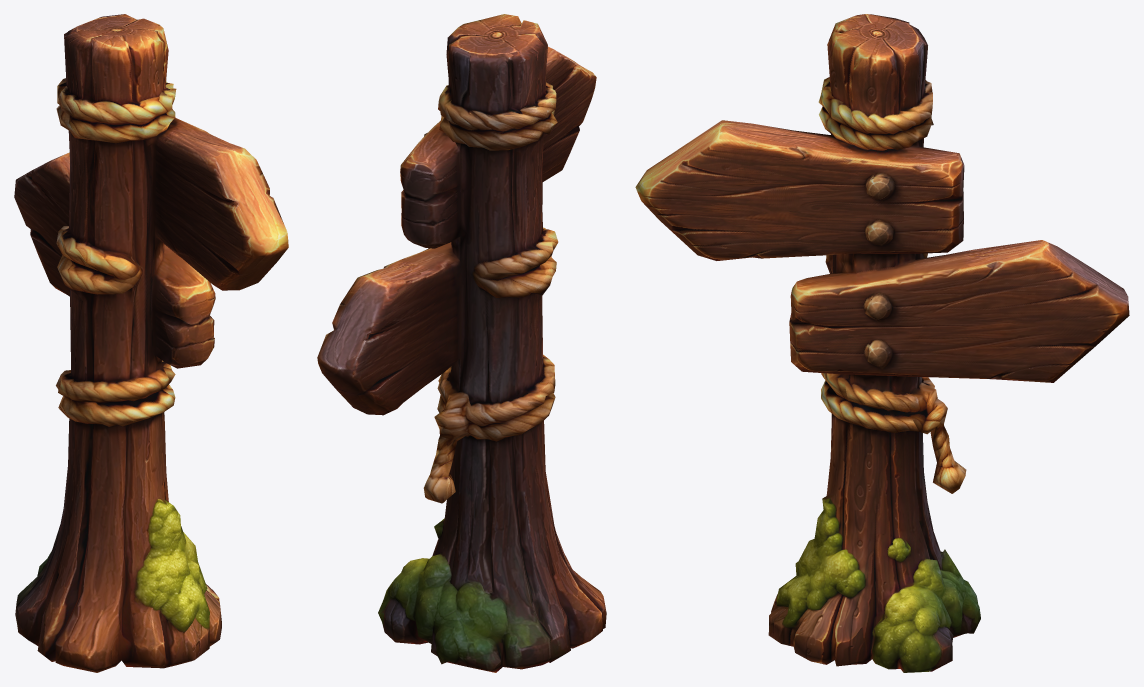
File: Kit_W_SignPost_raw.glb
The picture shows the model from 3 angles, left to right: view 1: azimuth 30°, elevation 25°; view 2: azimuth 150°, elevation 25°; view 3: azimuth 270°, elevation 25°; orthographic projection.
Parts seen in each view (by area): view 1: tripo_node_26a7b67c-c20c-4da3-b487-e9930dbd8f57; view 2: tripo_node_26a7b67c-c20c-4da3-b487-e9930dbd8f57; view 3: tripo_node_26a7b67c-c20c-4da3-b487-e9930dbd8f57.
Part boxes in pixels (x1,y1,x2,y2): tripo_node_26a7b67c-c20c-4da3-b487-e9930dbd8f57: [14, 14, 288, 672]; tripo_node_26a7b67c-c20c-4da3-b487-e9930dbd8f57: [317, 14, 606, 672]; tripo_node_26a7b67c-c20c-4da3-b487-e9930dbd8f57: [635, 14, 1129, 672].
Bounding box in the file's own units: 0.3172 × 1 × 0.7442.
Materials: 1 (1 with a texture image).
